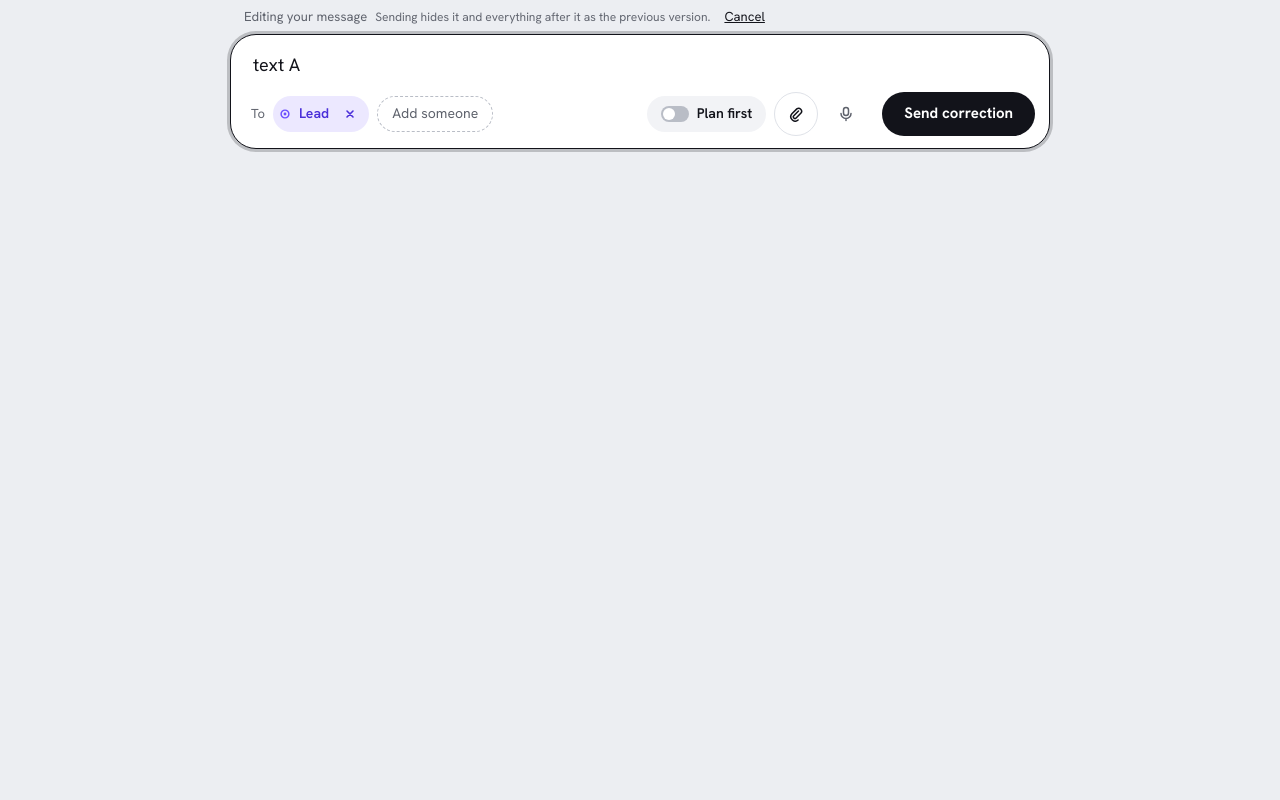
Test case: a live share link sends the edit through the dialog, which offers to revoke it
The width and height of the screenshot is (1280, 800).
Click the button "Send correction" at (959, 114), box [882,92,1035,136]
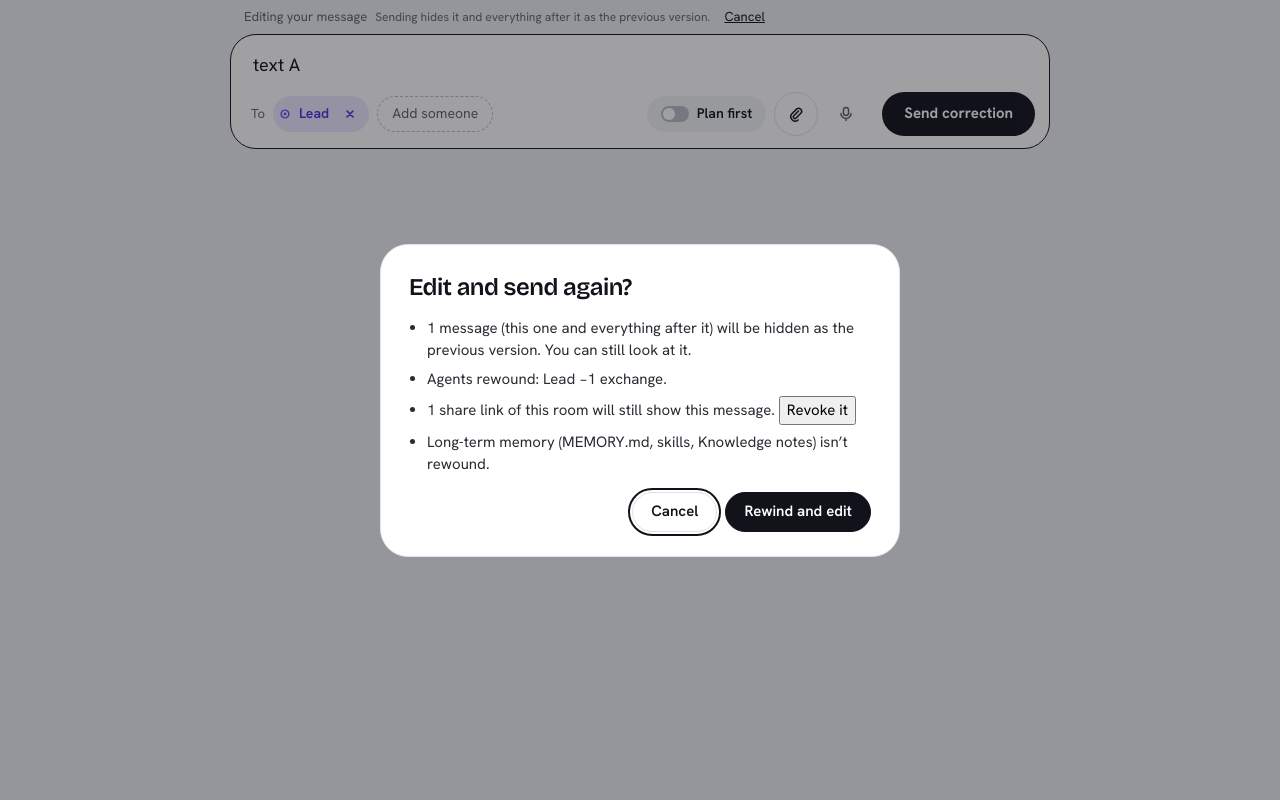
Expected: the button "Rewind and edit" is shown, [725,492,871,532]
